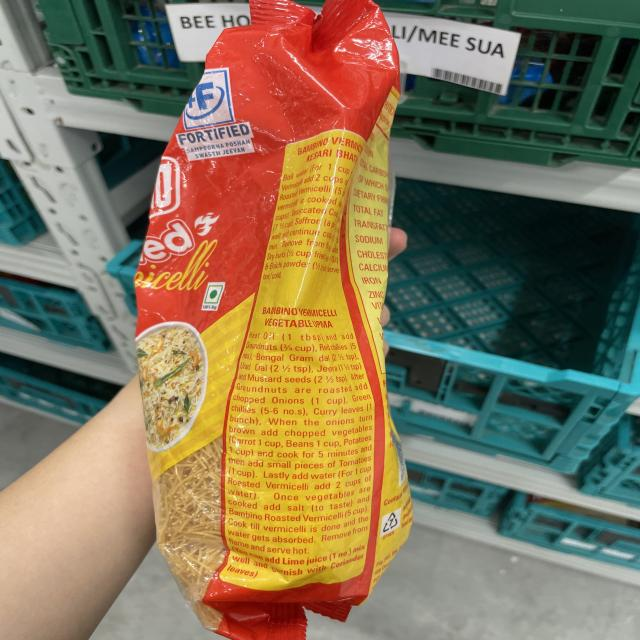object_name: (174, 44, 375, 605)
